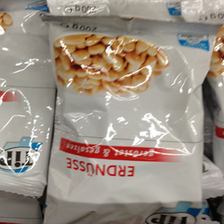nuts: (43, 15, 217, 223)
